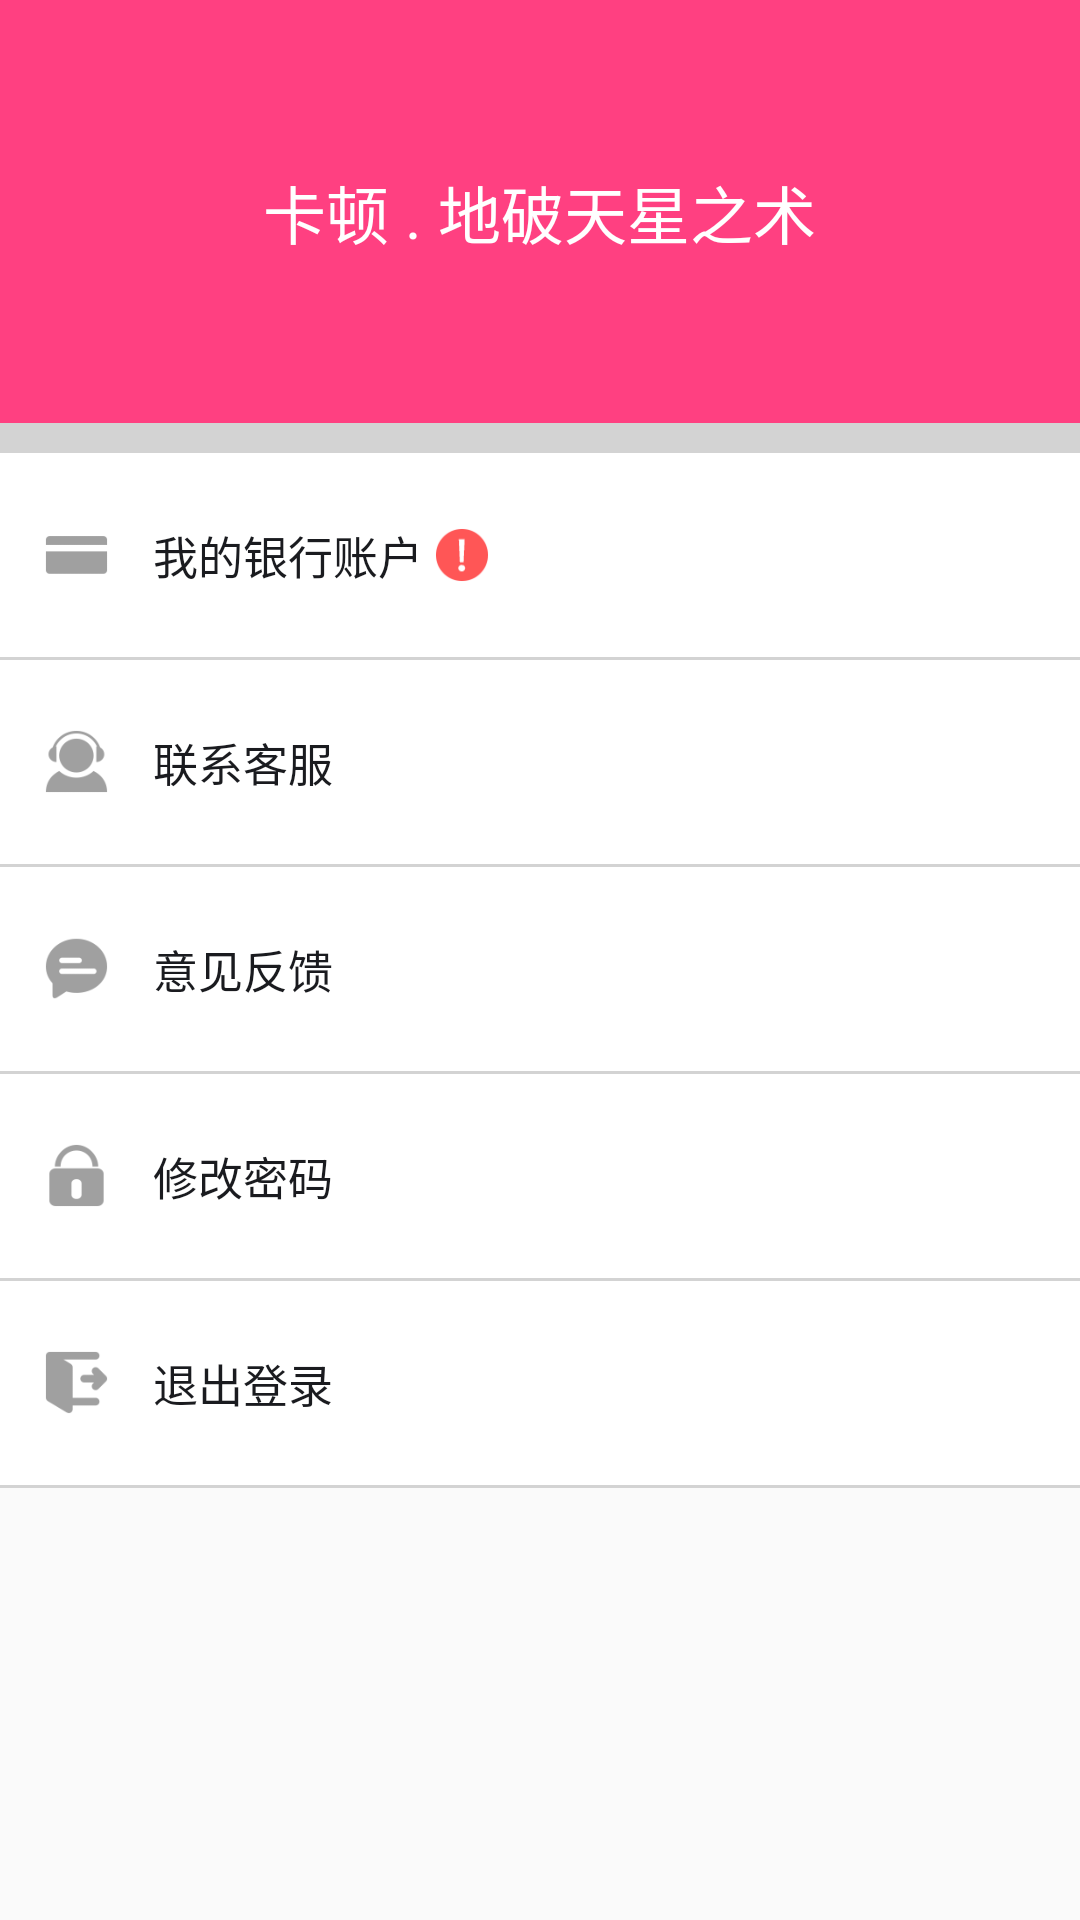

Point at icon controls on the screen. Image size 1080 x 1920, points as (x,y).
bank: (76,555)
opinion: (76,968)
password: (76,1175)
quit: (76,1382)
warnnig: (462,555)
